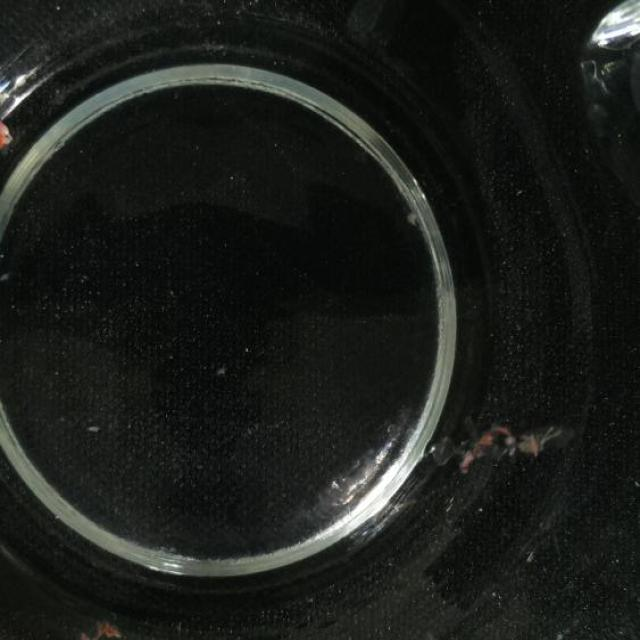fiber: (461, 407, 568, 484), (64, 614, 134, 639), (0, 105, 18, 163)
